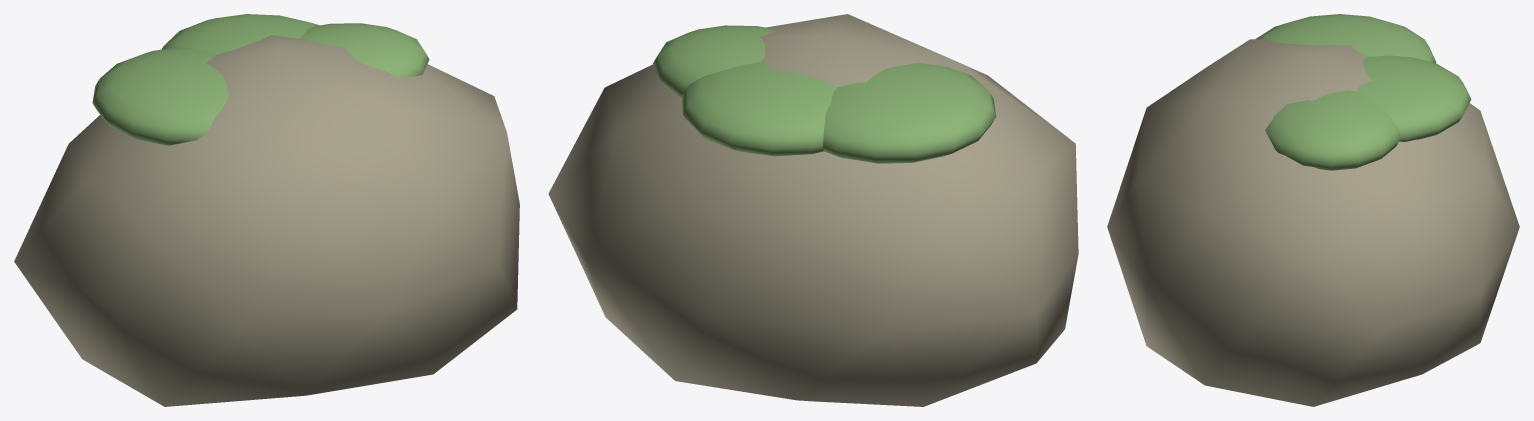
The model's file is rock.glb.
3 renders of one model, left to right at view 1: azimuth 30°, elevation 25°; view 2: azimuth 150°, elevation 25°; view 3: azimuth 270°, elevation 25°, orthographic. The views are drawn at different scales.
Parts seen in each view (by area): view 1: rock; view 2: rock; view 3: rock.
Part boxes in pixels (box(x1,y1,x2,y2)): rock: box(14, 14, 519, 406); rock: box(548, 14, 1078, 406); rock: box(1107, 14, 1519, 406).
Bounding box in the file's own units: 1.15 × 0.7052 × 0.94.
Materials: 1 (1 with a texture image).
